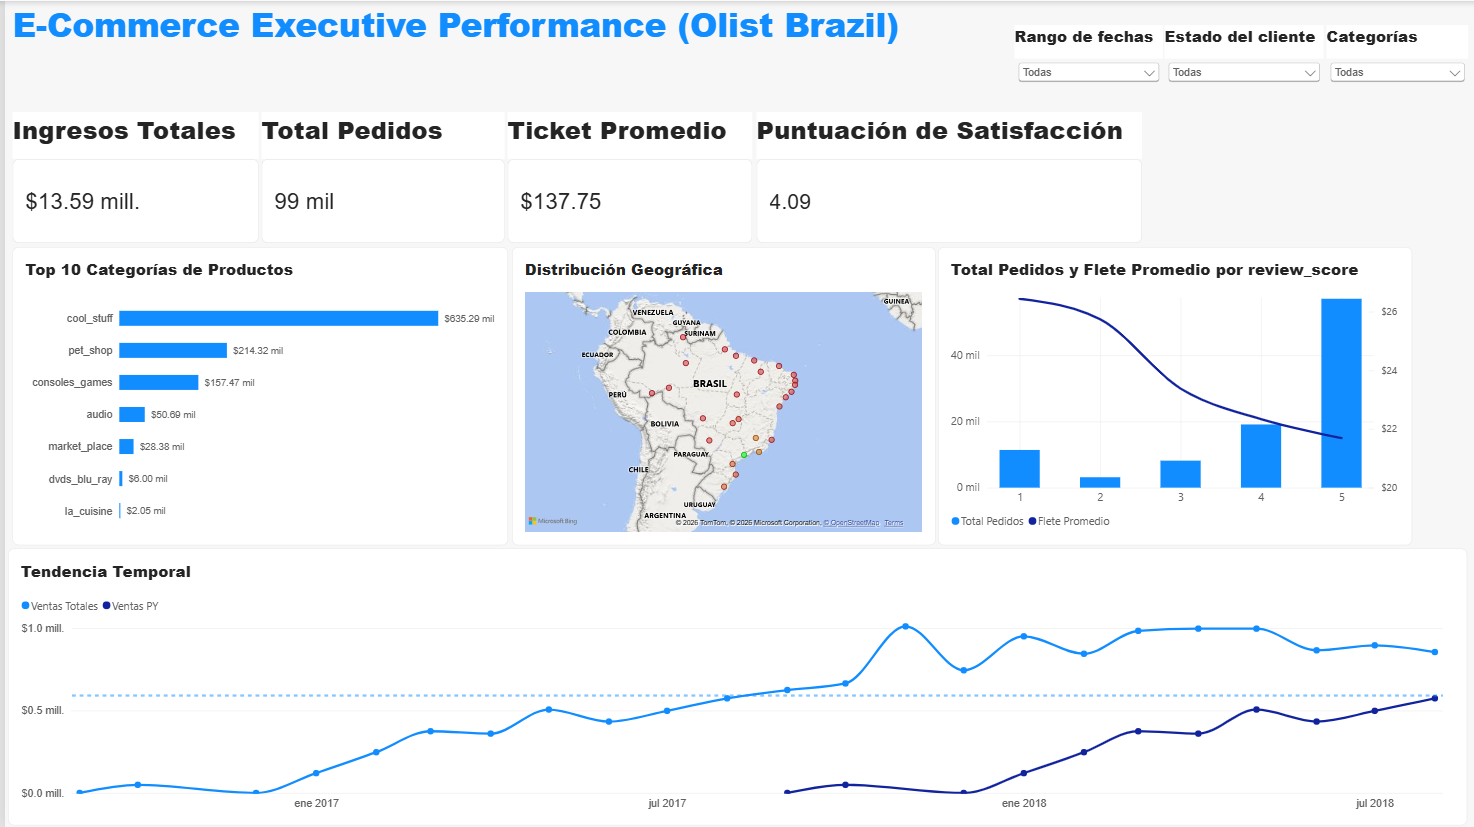

This screenshot's page, from the dashboard's own definition file:
{"tool":"powerbi","page":{"name":"Overview","canvas":[1920,1080],"ordinal":0},"visuals":[{"type":"textbox","box":[9.5,0,1164.8,75.6],"z":0},{"type":"slicer","title":"Rango de fechas","fields":{"Values":["Dim_Calendar.Año"]},"box":[1320.3,32.7,194,78.7],"z":0,"group":"g1"},{"type":"slicer","title":"Estado del cliente","fields":{"Values":["Dim_customers.customer_state"]},"box":[1517,32,208,79.3],"z":1000,"group":"g1"},{"type":"slicer","title":"Categorías","fields":{"Values":["Dim_products.product_category_name_english"]},"box":[1727.6,32,185.3,79.3],"z":2000,"group":"g1"},{"type":"cardVisual","title":"Ingresos Totales","fields":{"Data":["_Medidas.Ventas Totales"]},"box":[10,146,322,172],"z":2000},{"type":"cardVisual","title":"Total Pedidos","fields":{"Data":["_Medidas.Total Pedidos"]},"box":[336,146,318,172],"z":3000},{"type":"cardVisual","title":"Ticket Promedio","fields":{"Data":["_Medidas.Ticket Promedio"]},"box":[658,146,320,172],"z":4000},{"type":"cardVisual","title":"Puntuación de Satisfacción","fields":{"Data":["_Medidas.Satisfacción Promedio"]},"box":[982,146,504,172],"z":5000},{"type":"lineChart","title":"Tendencia Temporal","fields":{"Category":["Dim_Calendar.Date.Variación.Jerarquía de fechas.Año","Dim_Calendar.Date.Variación.Jerarquía de fechas.Mes"],"Y":["_Medidas.Ventas Totales","_Medidas.Ventas PY"]},"box":[4,716,1908,362],"z":6000},{"type":"barChart","title":"Top 10 Categorías de Productos","fields":{"Category":["Dim_category_translation.product_category_name_english"],"Y":["_Medidas.Ventas Totales"]},"box":[10,322,648,390],"z":7000},{"type":"map","title":"Distribución Geográfica","fields":{"Category":["Dim_customers.Estado_Nombre"]},"box":[662,322,554,390],"z":8000},{"type":"lineClusteredColumnComboChart","fields":{"Category":["Fact_order_reviews.review_score"],"Y":["_Medidas.Total Pedidos"],"Y2":["_Medidas.Flete Promedio"]},"box":[1220,322,620,390],"z":9000},{"type":"group","id":"g1","title":"Grupo 1","box":[1320.3,32,592.7,79.3],"z":9001}]}

Visuals, with their boxes in screenshot pixels (x1, y1, x2, y2), scaled from the page's 1920x1080 canvas onto the 1474x827 screenshot:
textbox: [left=7, top=0, right=902, bottom=58]
"Rango de fechas" slicer: [left=1014, top=25, right=1163, bottom=85]
"Estado del cliente" slicer: [left=1165, top=25, right=1324, bottom=85]
"Categorías" slicer: [left=1326, top=25, right=1469, bottom=85]
"Ingresos Totales" cardVisual: [left=8, top=112, right=255, bottom=244]
"Total Pedidos" cardVisual: [left=258, top=112, right=502, bottom=244]
"Ticket Promedio" cardVisual: [left=505, top=112, right=751, bottom=244]
"Puntuación de Satisfacción" cardVisual: [left=754, top=112, right=1141, bottom=244]
"Tendencia Temporal" lineChart: [left=3, top=548, right=1468, bottom=825]
"Top 10 Categorías de Productos" barChart: [left=8, top=247, right=505, bottom=545]
"Distribución Geográfica" map: [left=508, top=247, right=934, bottom=545]
lineClusteredColumnComboChart - Fact_order_reviews.review_score x _Medidas.Total Pedidos: [left=937, top=247, right=1413, bottom=545]
"Grupo 1" group: [left=1014, top=25, right=1469, bottom=85]
